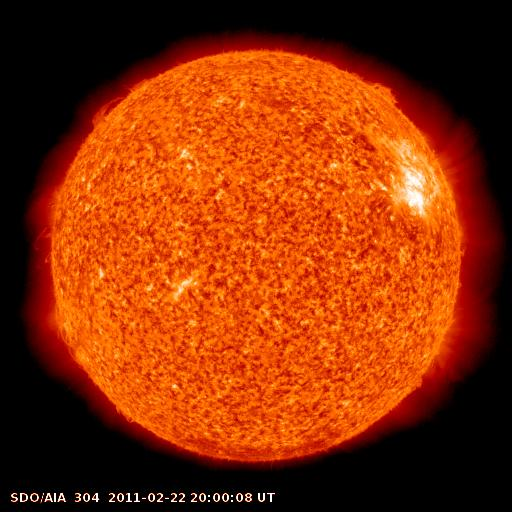prominence: (85, 70, 160, 136), (358, 67, 408, 114)
